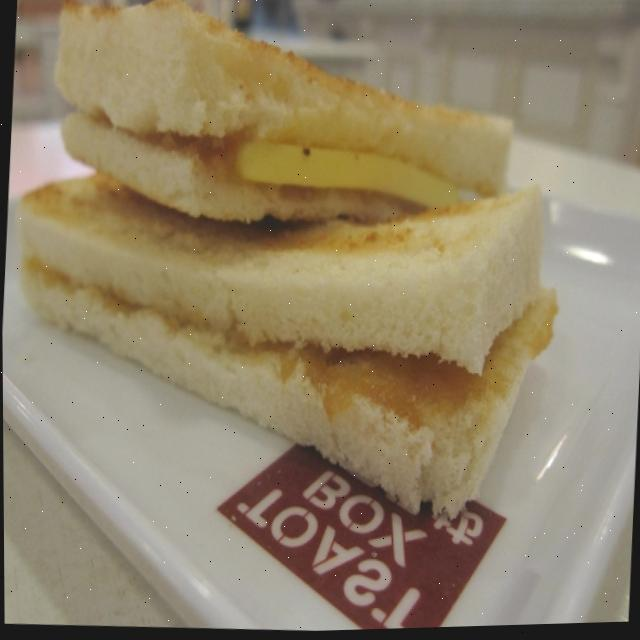面包点心: (0, 0, 595, 574)
